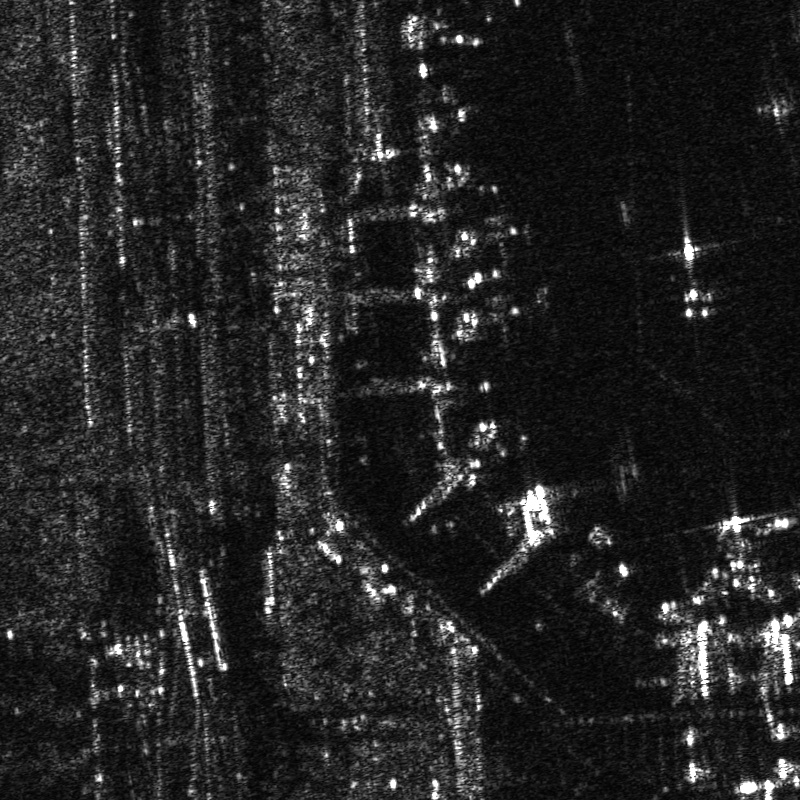A220: (685, 506, 783, 602), (463, 276, 557, 351), (456, 198, 541, 264)
Boeing737: (633, 233, 763, 323)
other: (752, 78, 799, 137)
